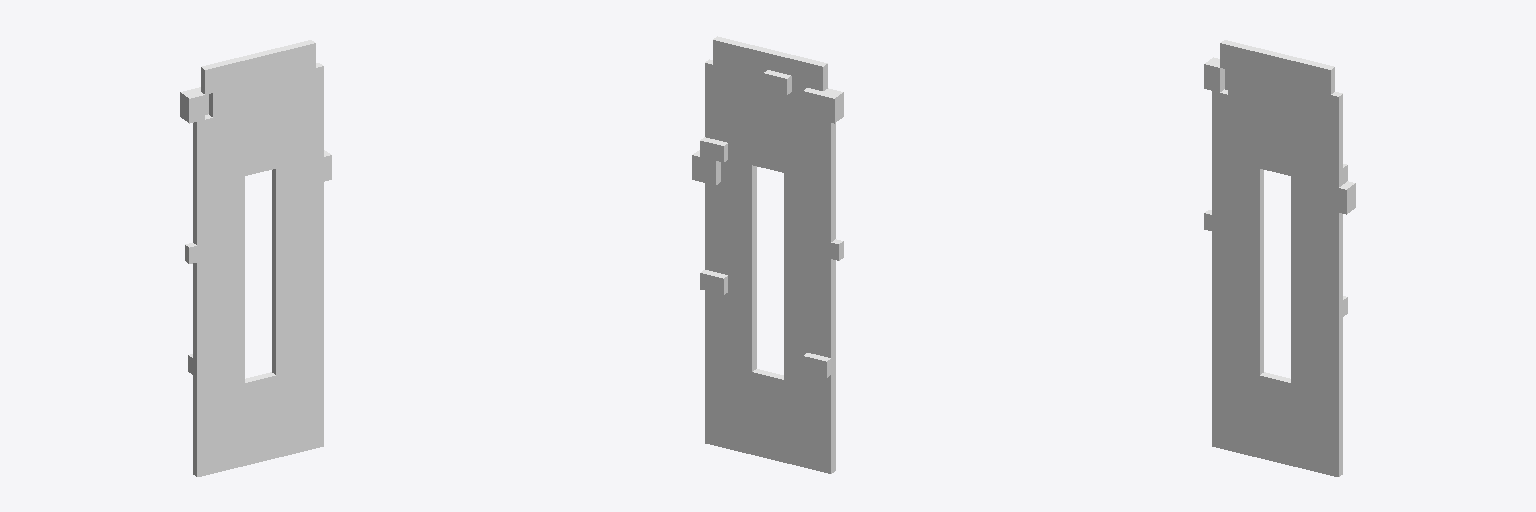
The model's file is SmallBuilding04-2.obj.
3 renders of one model, left to right at view 1: azimuth 30°, elevation 25°; view 2: azimuth 150°, elevation 25°; view 3: azimuth 330°, elevation 25°, orthographic.
Parts seen in each view (by area): view 1: object 1; view 2: object 1; view 3: object 1.
Part boxes in pixels (x1,y1,x2,y2): object 1: (180,40,331,476); object 1: (692,36,843,473); object 1: (1204,40,1355,476).
Bounding box in the file's own units: 1.8 × 4.9 × 0.2.